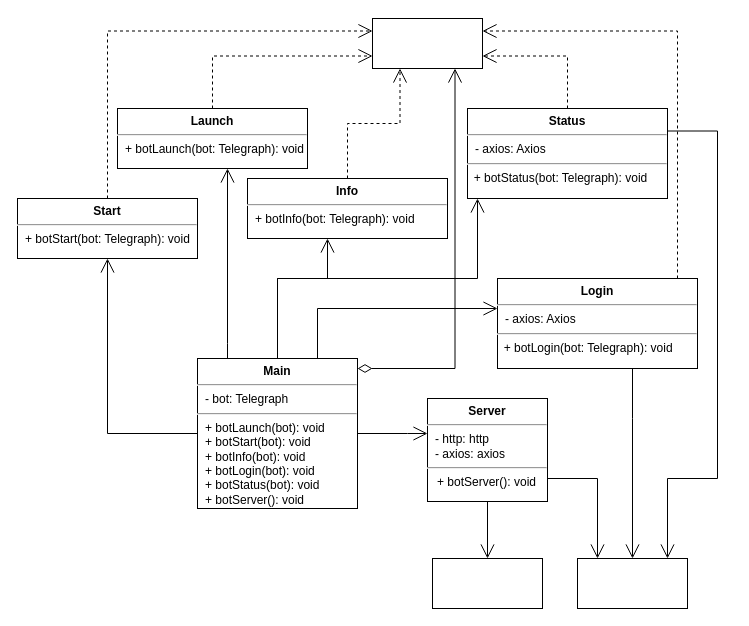
Image size: 749x626. Some labels were removed from this diagram. The centre of each missing label's shape, as x and y in pixels:
"Axios" belongs at [632,583].
"HTTP" belongs at [487,583].
"Telegraph" belongs at [427,43].
